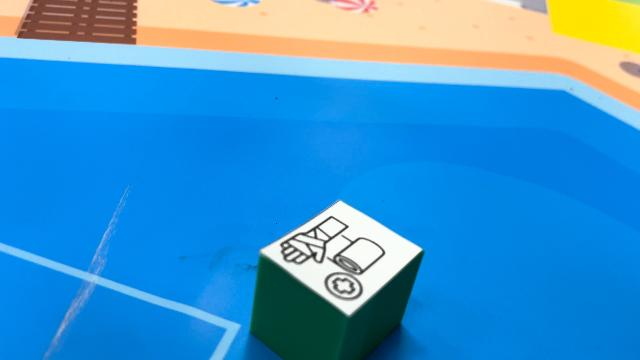bandage: (248, 199, 424, 359)
